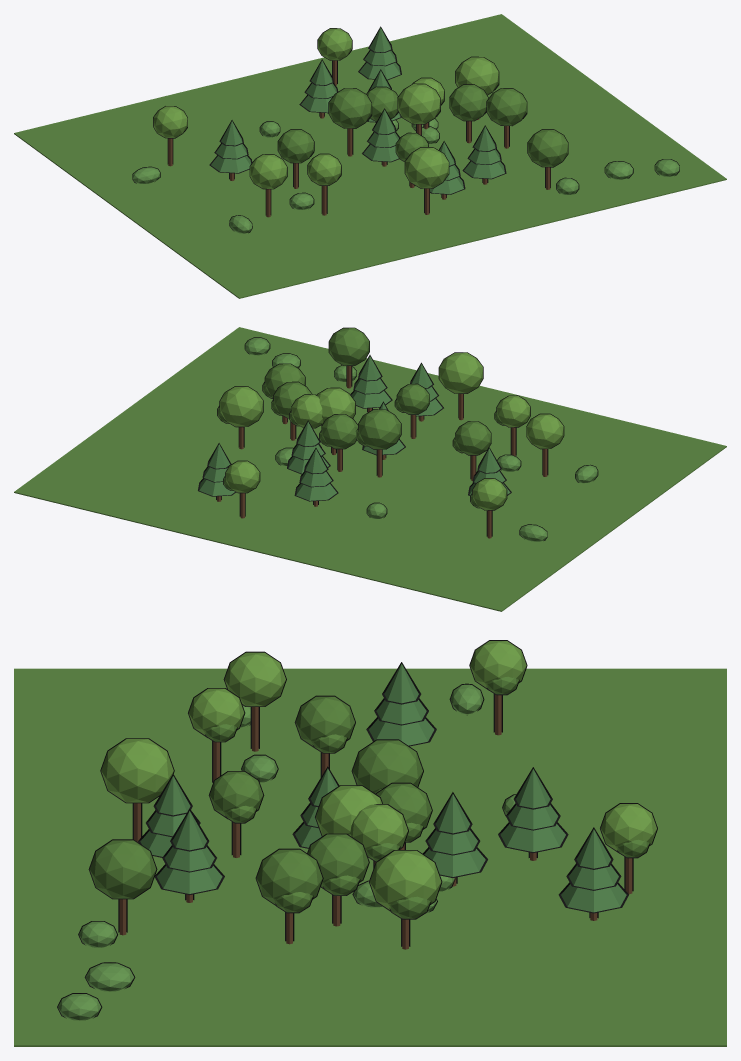
The model's file is Kir_alan_koru_1.fbx.
3 views of the same model, one above another, from view 1: azimuth 30°, elevation 25°; view 2: azimuth 150°, elevation 25°; view 3: azimuth 270°, elevation 25° (orthographic). The views are drawn at different scales.
Visible parts, largest first — view 1: Kir_alan_koru_1; view 2: Kir_alan_koru_1; view 3: Kir_alan_koru_1.
Part boxes in pixels (left/top/right/bottom): Kir_alan_koru_1: left=14, top=14, right=726, bottom=298; Kir_alan_koru_1: left=14, top=327, right=726, bottom=611; Kir_alan_koru_1: left=14, top=640, right=726, bottom=1046.
Bounding box in the file's own units: 50 × 6.7 × 40.
